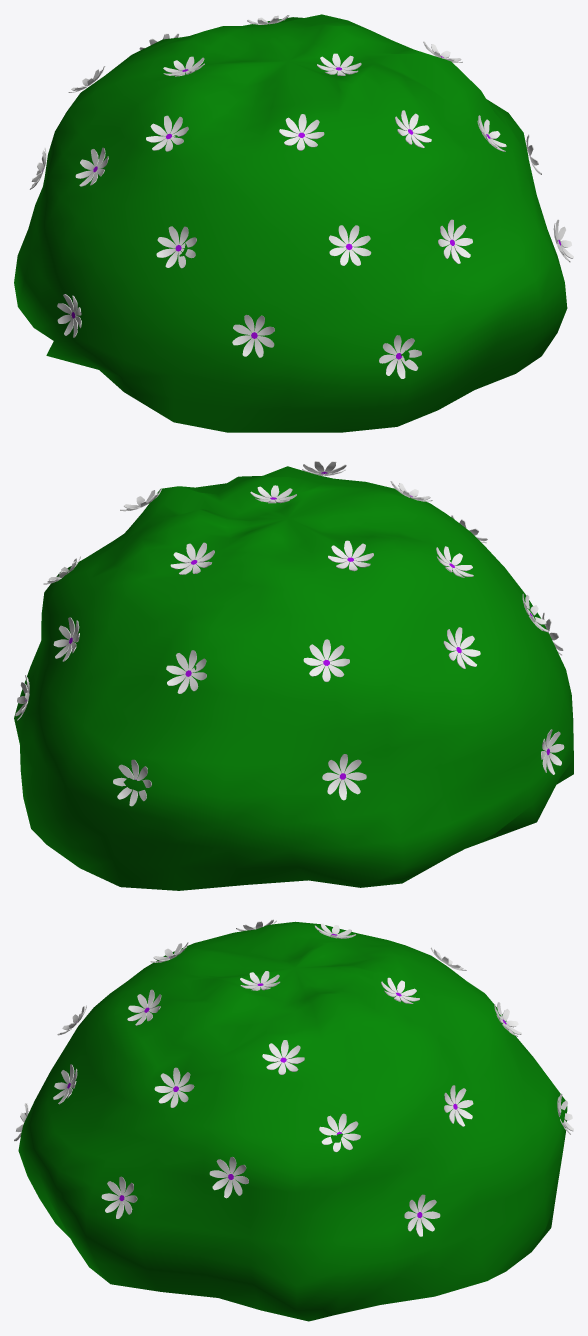
Rendered from cali4.fbx.
The picture shows the model from 3 angles, top to bottom: view 1: azimuth 30°, elevation 25°; view 2: azimuth 150°, elevation 25°; view 3: azimuth 270°, elevation 25°; orthographic projection. The views are drawn at different scales.
Visible parts, largest first — view 1: cali3, flower19, flower16, flower15, flower20, flower17, flower14, flower21, flower13, flower22, flower23, flower18; view 2: cali3, flower31, flower25, flower29, flower22, flower30, flower26, flower24, flower28, flower23, flower21; view 3: cali3, flower10, flower12, flower27, flower9, flower11, flower2, flower28, flower13, flower26.
Boxes of the visible parts, <box> form: cali3: <box>14,14,567,432</box>; flower19: <box>232,315,274,357</box>; flower16: <box>328,225,371,265</box>; flower15: <box>379,335,421,378</box>; flower20: <box>156,226,196,268</box>; flower17: <box>279,114,324,150</box>; flower14: <box>438,219,472,263</box>; flower21: <box>146,115,188,151</box>; flower13: <box>395,110,431,148</box>; flower22: <box>75,147,108,186</box>; flower23: <box>57,294,81,337</box>; flower18: <box>317,53,361,75</box>; cali3: <box>14,466,573,890</box>; flower31: <box>322,754,366,800</box>; flower25: <box>303,639,349,681</box>; flower29: <box>166,650,206,693</box>; flower22: <box>443,627,480,668</box>; flower30: <box>113,759,151,806</box>; flower26: <box>170,542,214,574</box>; flower24: <box>328,540,373,571</box>; flower28: <box>53,617,79,661</box>; flower23: <box>541,729,564,774</box>; flower21: <box>436,546,473,577</box>; cali3: <box>18,921,567,1321</box>; flower10: <box>209,1157,248,1198</box>; flower12: <box>154,1067,194,1107</box>; flower27: <box>404,1194,440,1236</box>; flower9: <box>319,1113,360,1152</box>; flower11: <box>101,1176,137,1218</box>; flower2: <box>262,1040,304,1074</box>; flower28: <box>444,1085,473,1126</box>; flower13: <box>127,989,161,1025</box>; flower26: <box>381,977,419,1003</box>.
Bounding box in the file's own units: 1.92 × 1.09 × 2.08.
